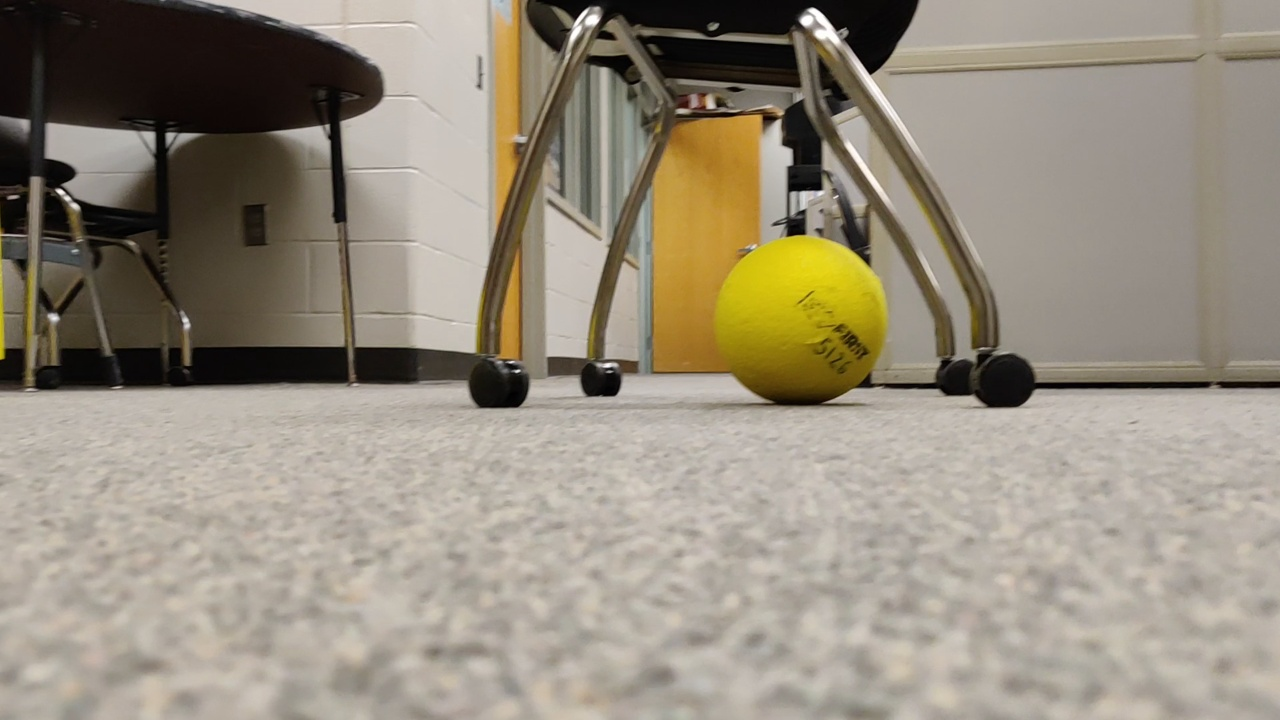Ball: (711, 236, 887, 407)
